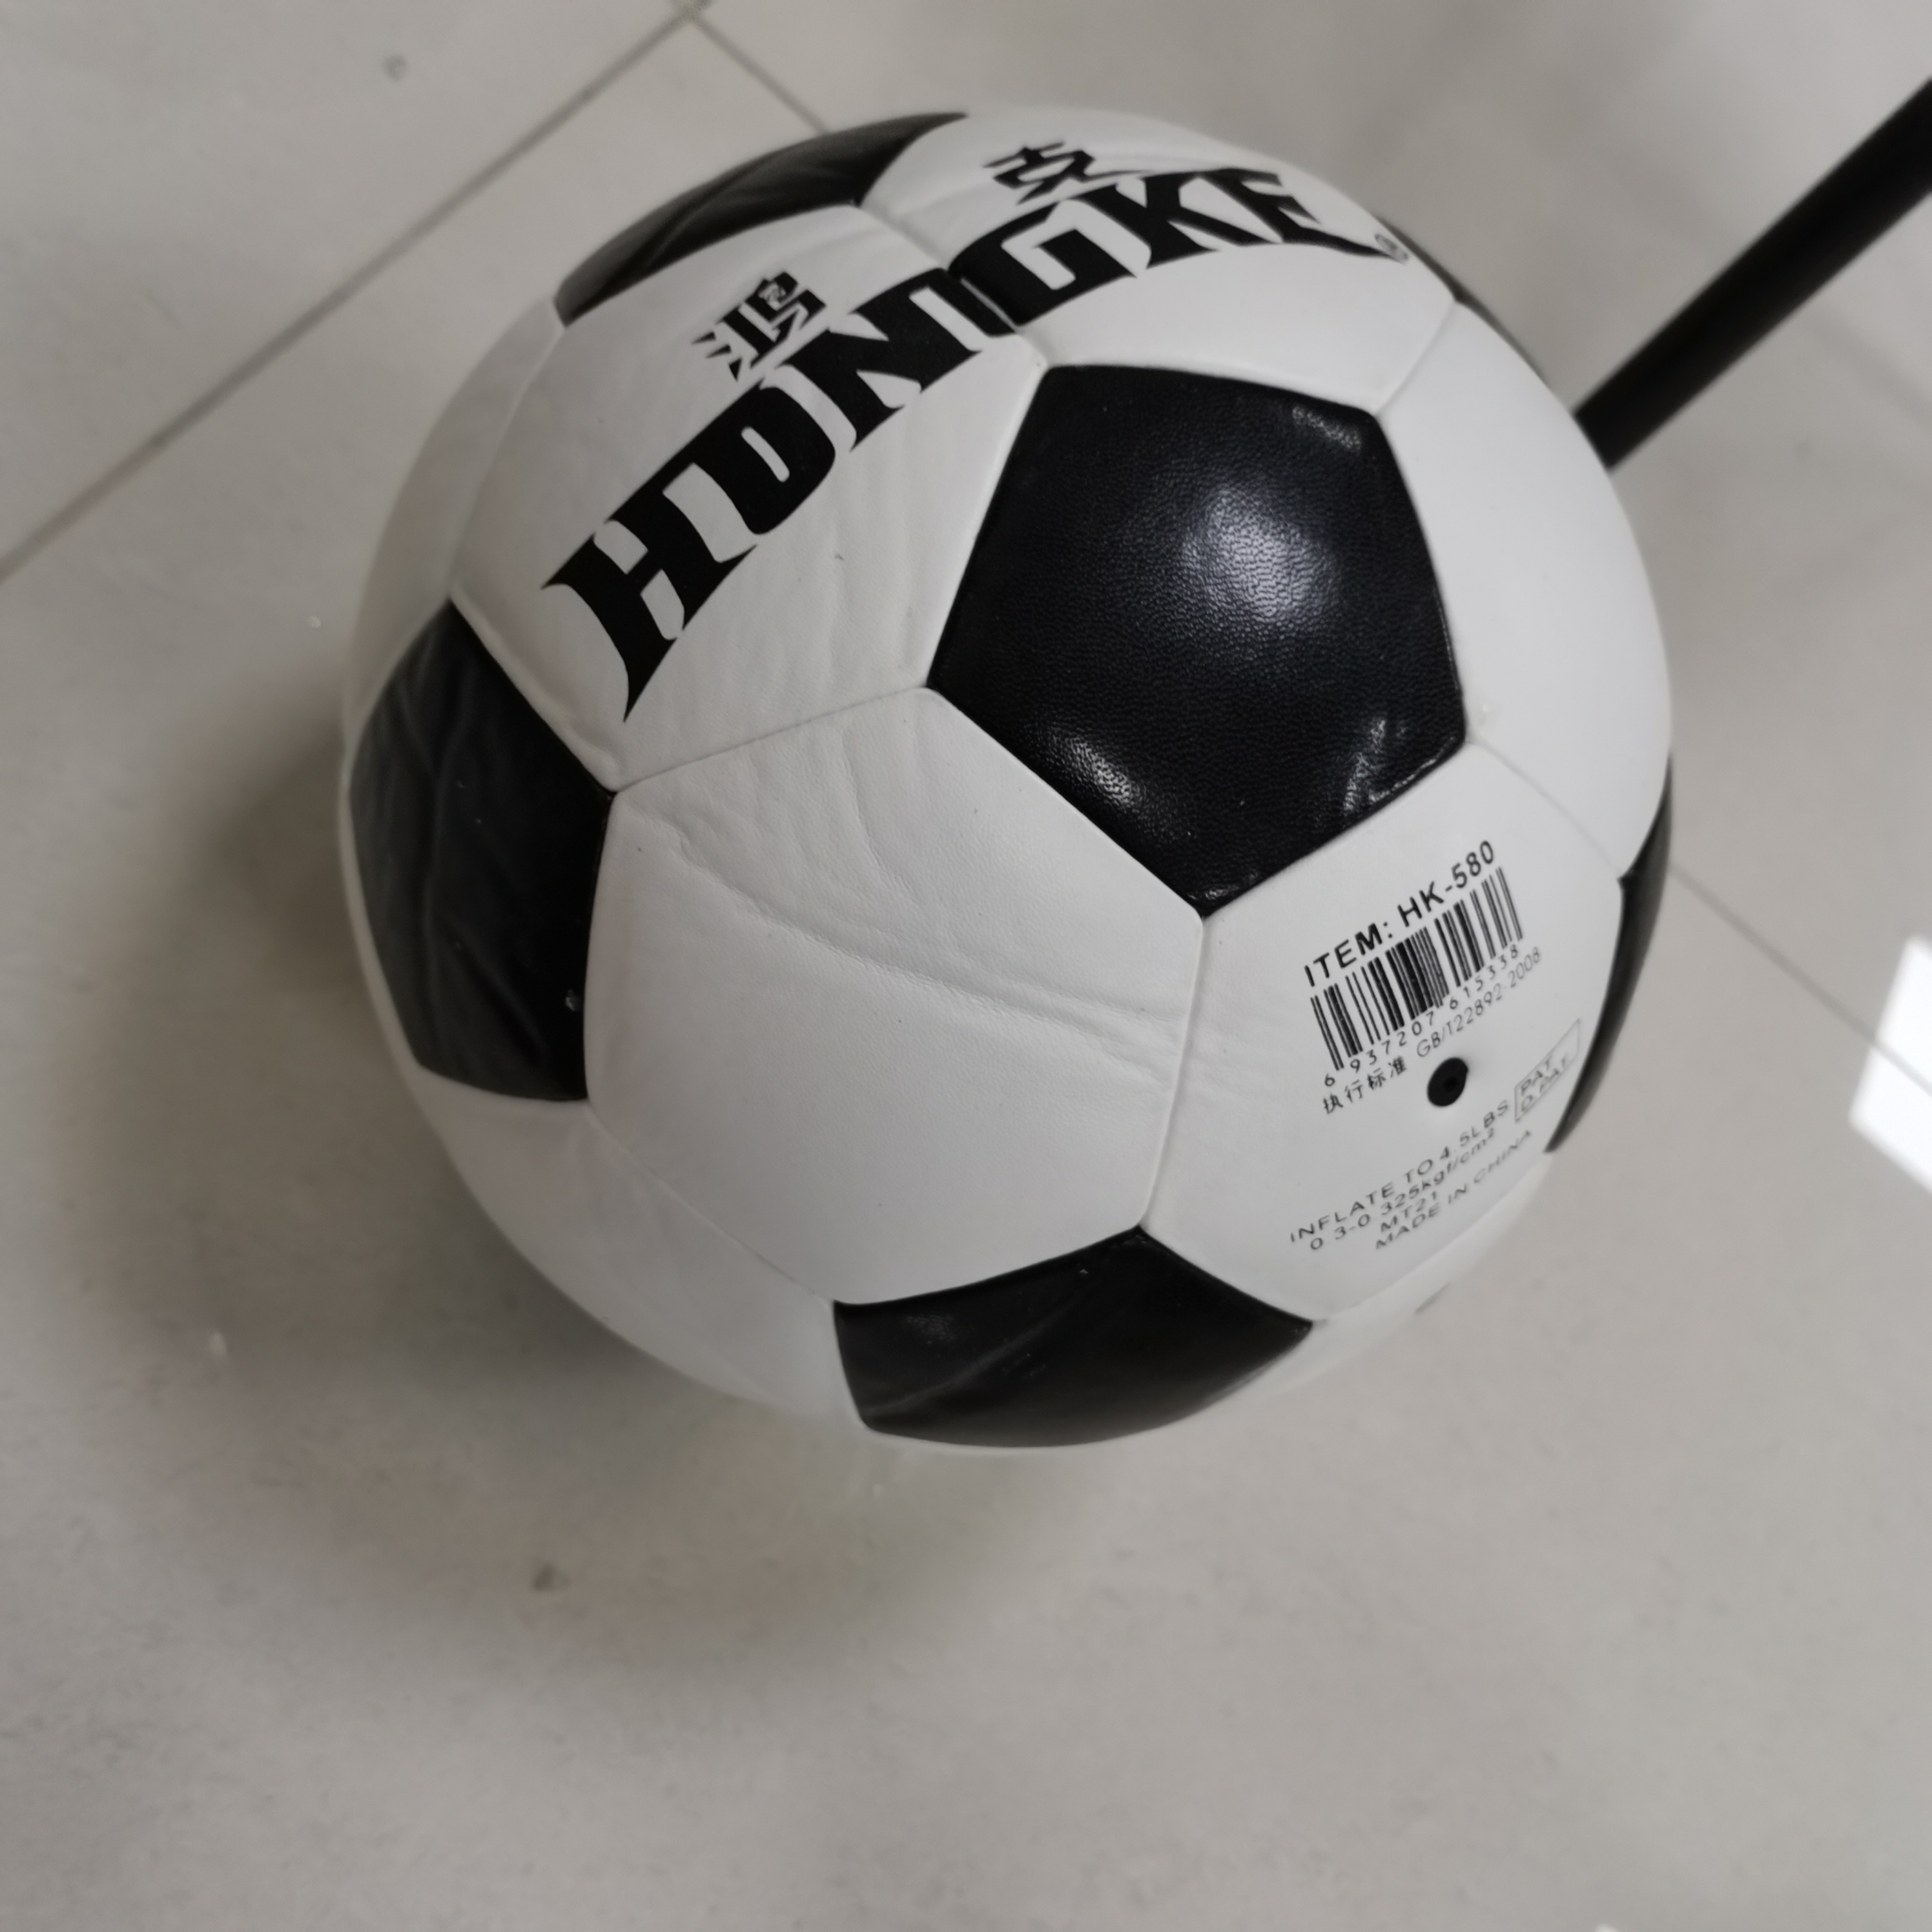football: (341, 101, 1681, 1461)
